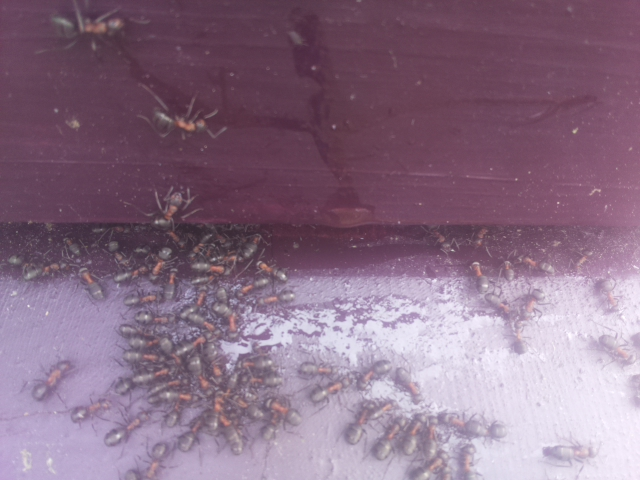ant: (23, 349, 82, 411), (96, 401, 160, 452), (145, 178, 194, 243), (118, 431, 179, 480), (121, 241, 180, 290), (144, 102, 216, 141), (170, 404, 224, 455), (237, 255, 294, 303), (255, 392, 309, 440), (206, 404, 252, 458), (369, 412, 413, 465), (213, 229, 266, 273), (304, 369, 359, 409), (51, 12, 124, 41), (342, 396, 378, 451), (5, 256, 72, 285), (441, 412, 501, 442), (209, 284, 242, 335), (353, 354, 395, 394), (537, 441, 598, 466), (75, 261, 108, 307), (67, 396, 121, 423), (393, 364, 426, 406), (592, 335, 636, 366), (595, 274, 623, 313), (102, 239, 135, 271), (118, 286, 164, 308), (162, 397, 190, 428), (520, 254, 557, 274), (469, 259, 489, 295), (522, 286, 545, 316), (257, 289, 299, 305)
